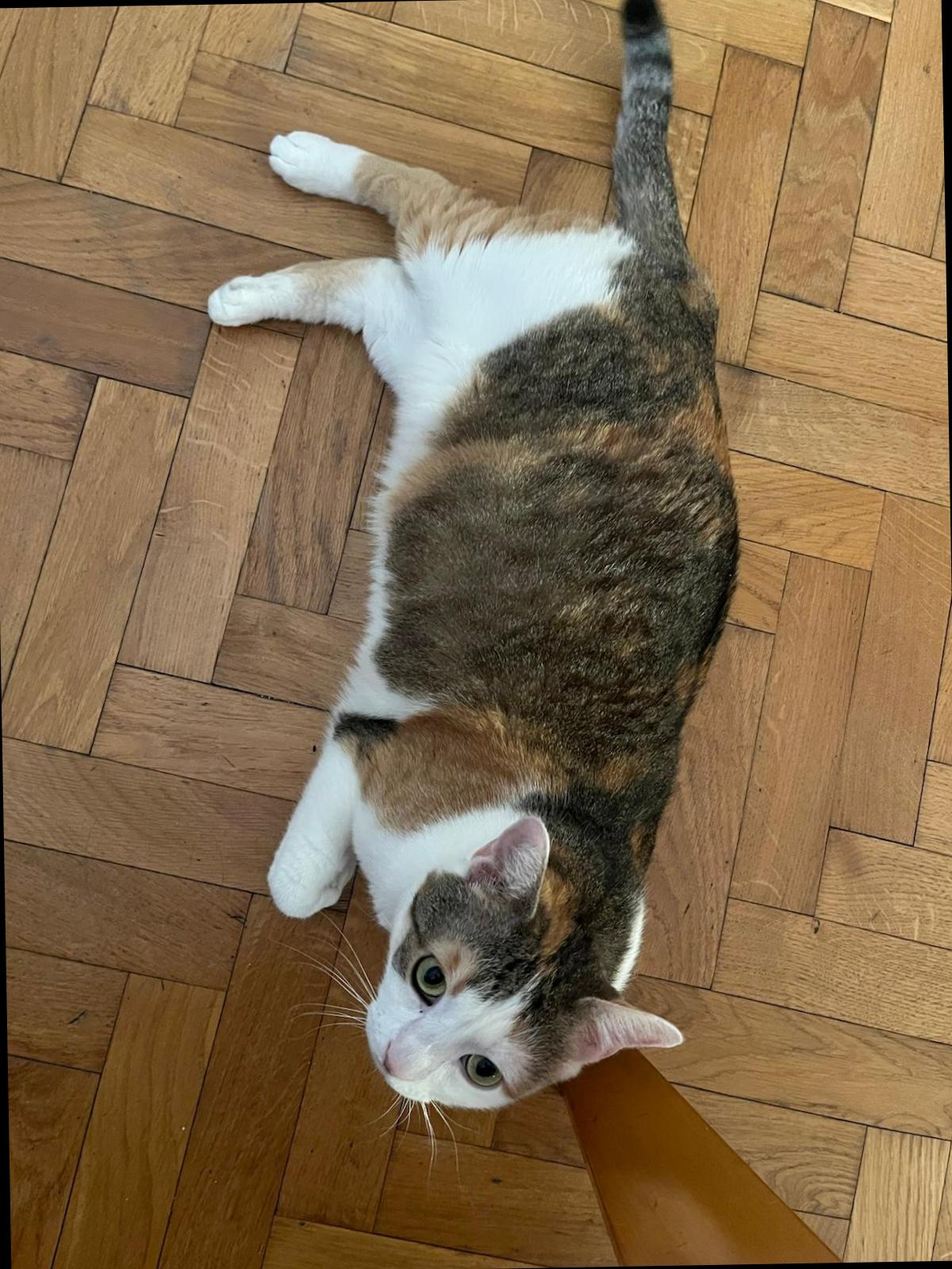macka: (201, 0, 753, 1115)
